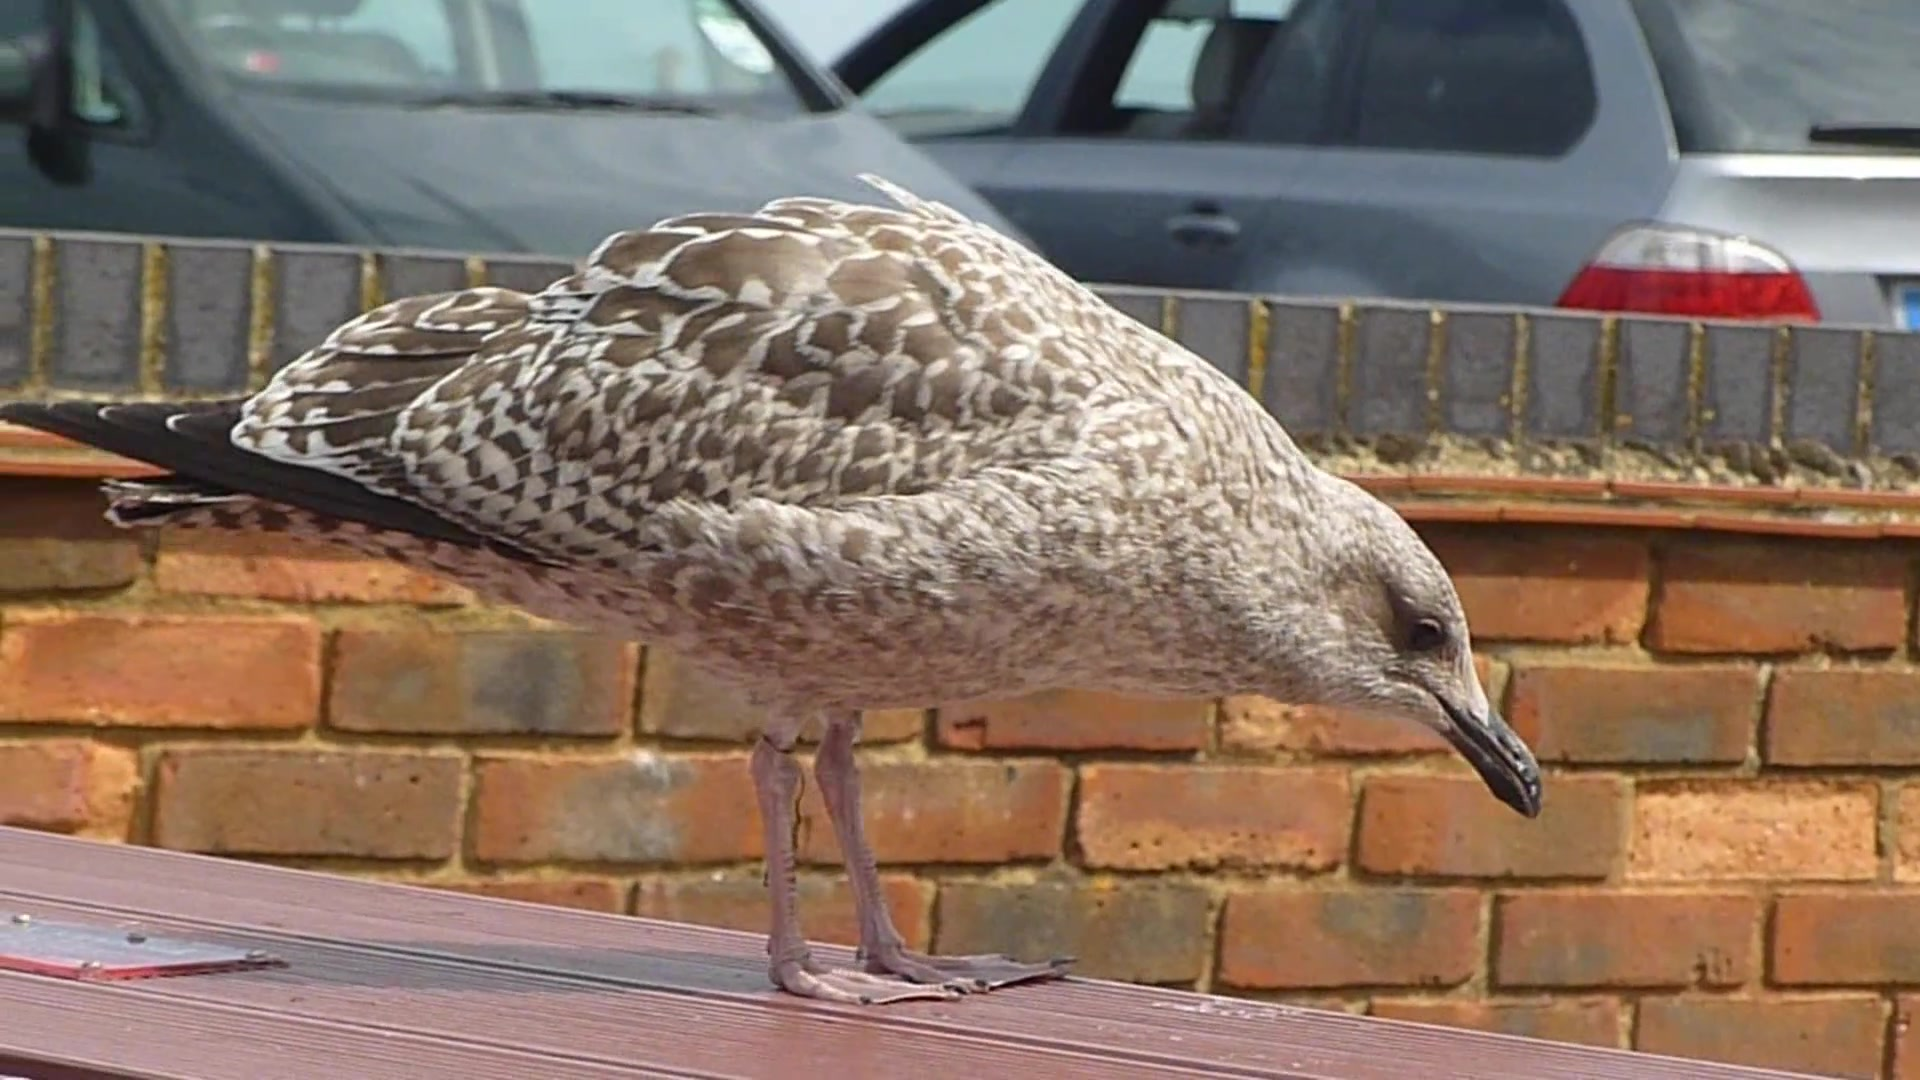bird: (3, 171, 1544, 1007)
